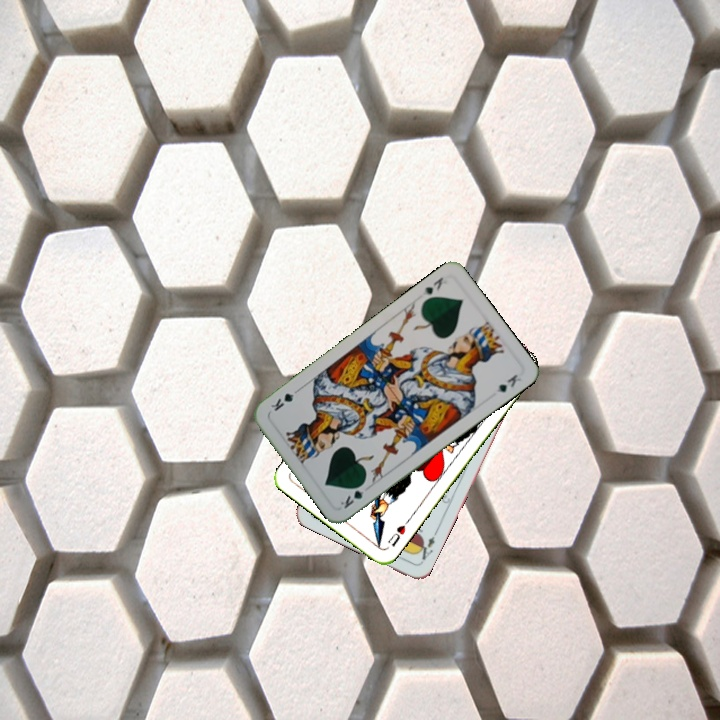EA: (412, 528, 439, 566)
GK: (336, 478, 368, 511), (418, 273, 446, 298)
HU: (384, 521, 408, 549)
